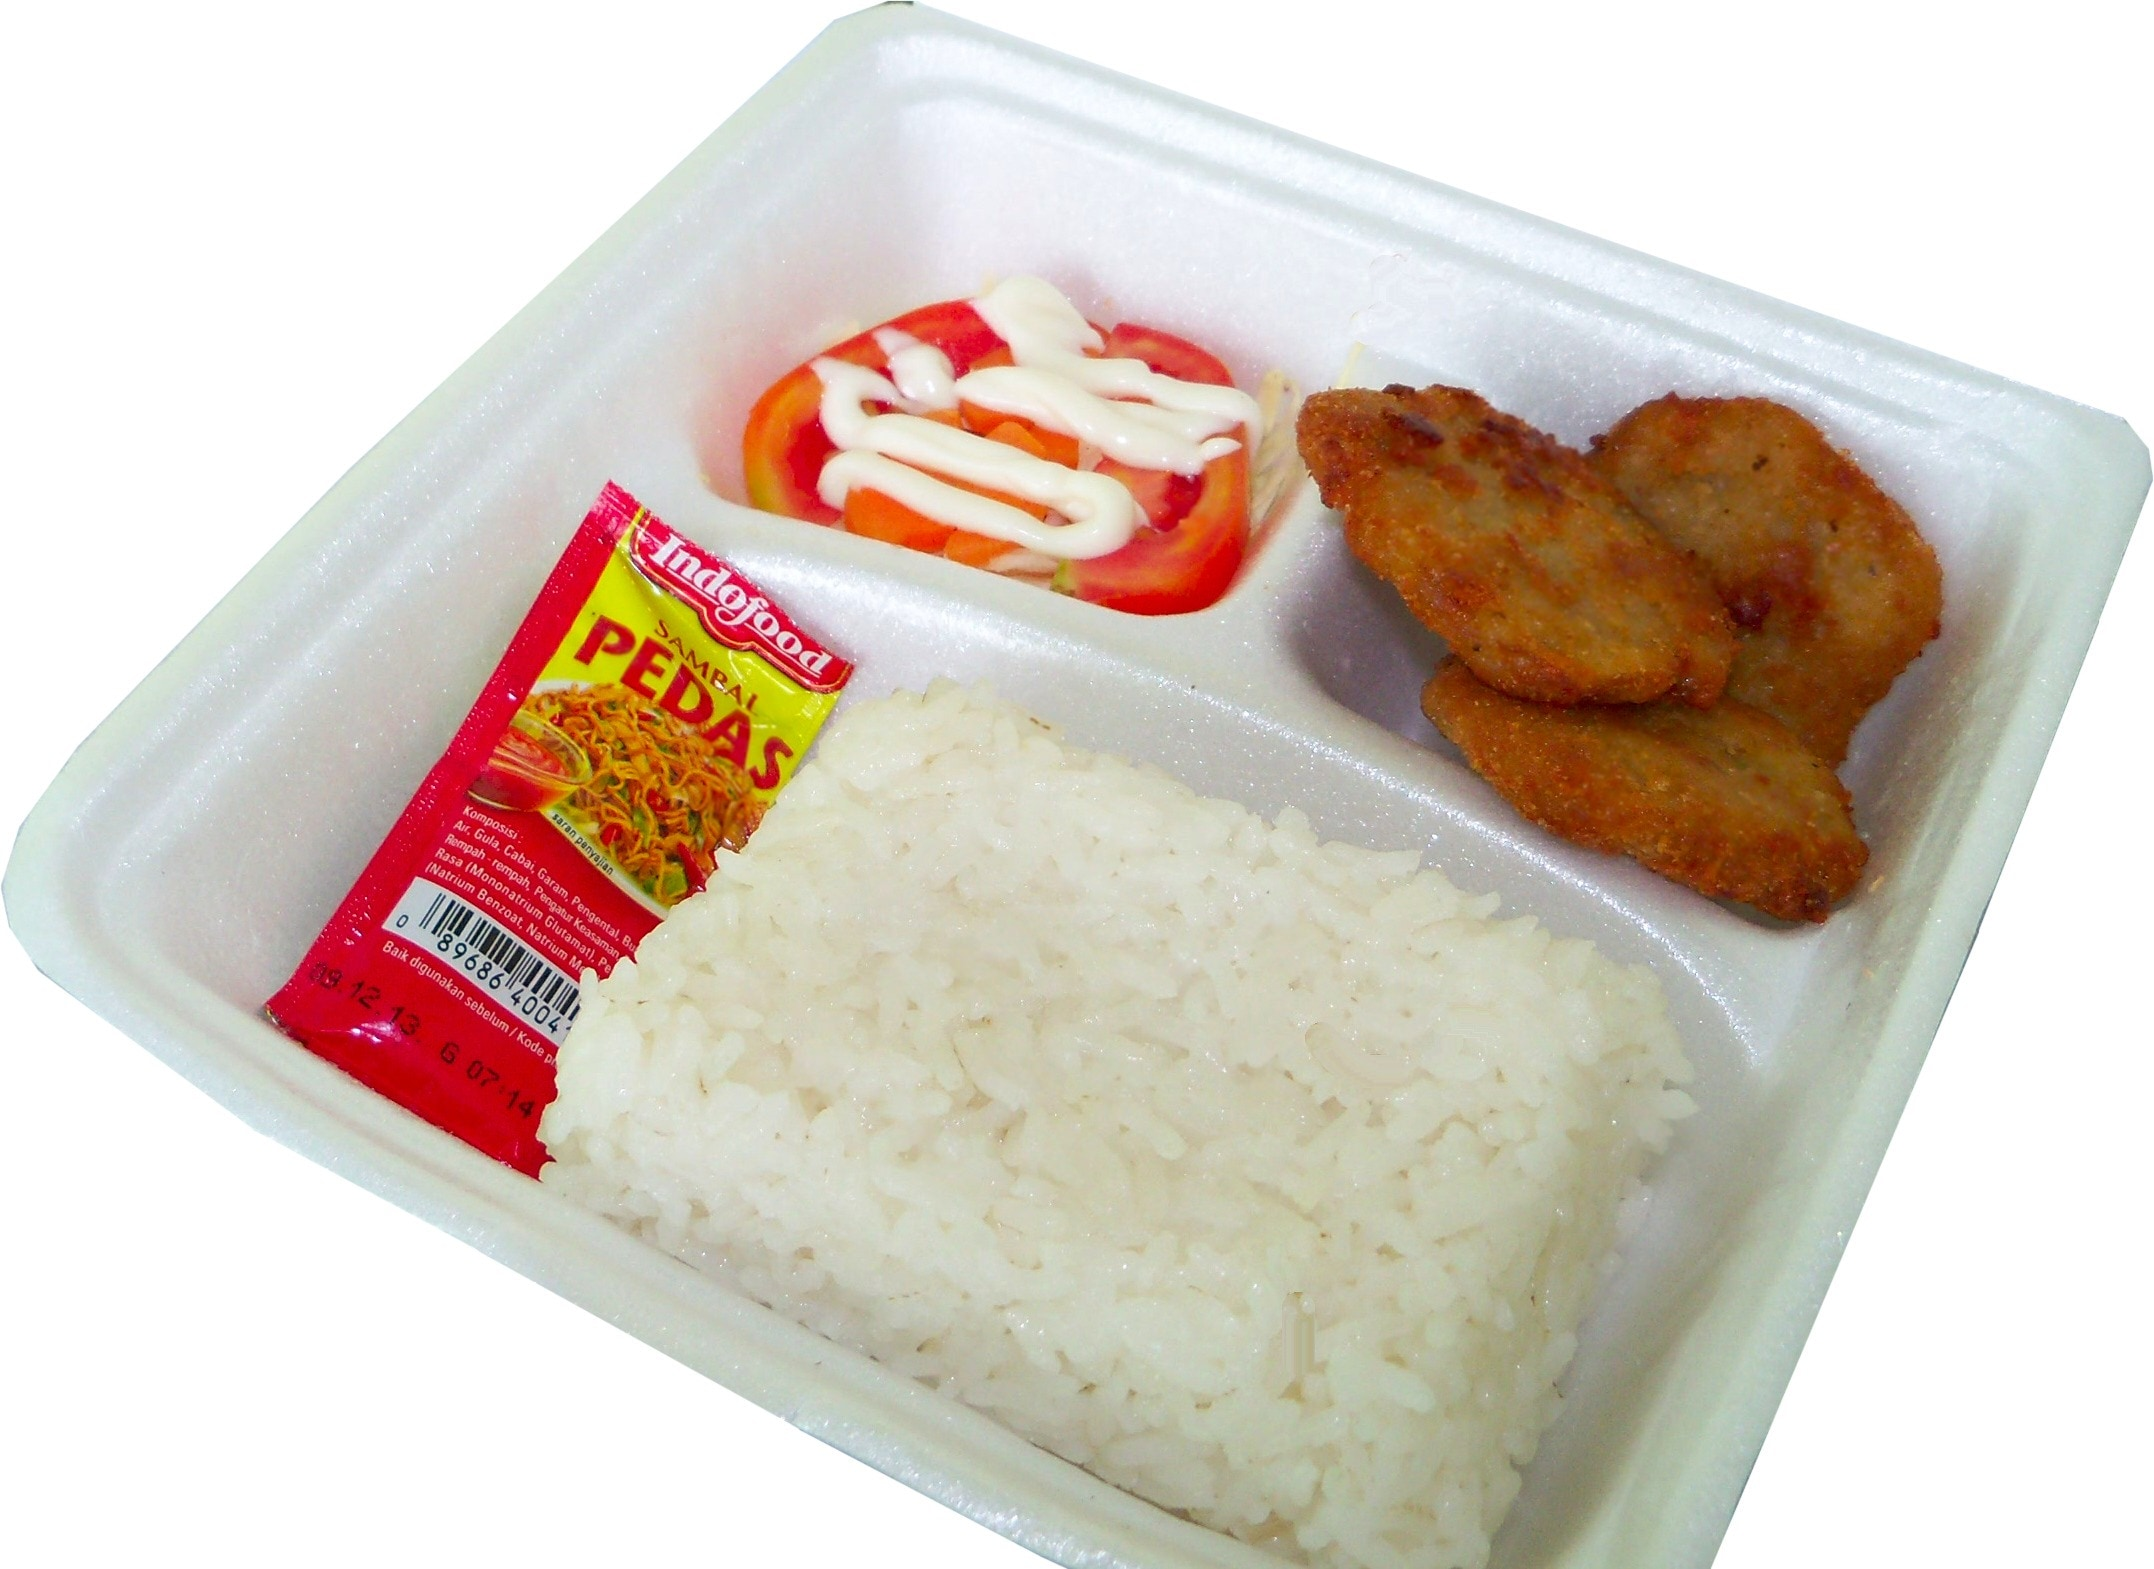plain rice: (793, 778, 1477, 1428)
